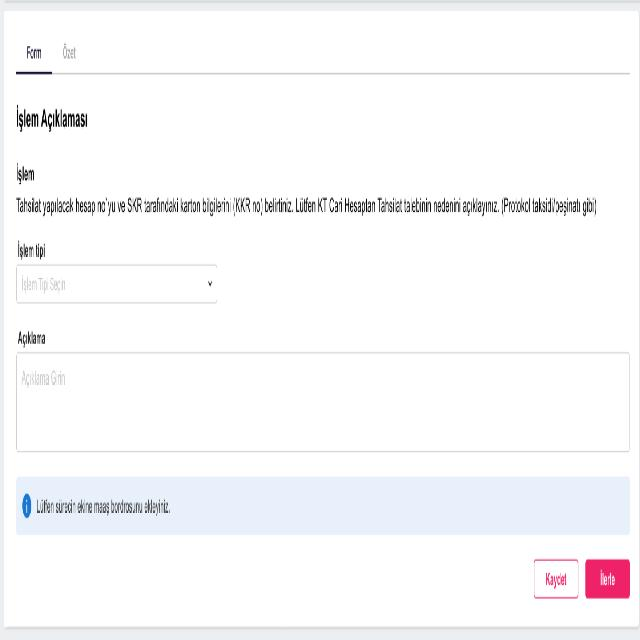QLabel: (15, 192, 597, 220), (35, 496, 171, 518), (15, 101, 88, 137), (16, 238, 46, 261), (15, 327, 47, 347), (16, 160, 34, 188), (23, 42, 42, 64), (545, 572, 567, 590), (61, 43, 77, 63), (600, 569, 615, 588)
VBtn: (533, 558, 579, 600), (585, 558, 630, 600)
VCard: (2, 6, 640, 630), (15, 475, 630, 536)
VCombobox: (16, 263, 217, 305)
VIcon: (22, 491, 32, 520)
VTab: (12, 32, 54, 78), (58, 32, 82, 76)
VTabs: (8, 21, 635, 84)
VTextarea: (15, 350, 630, 454)
